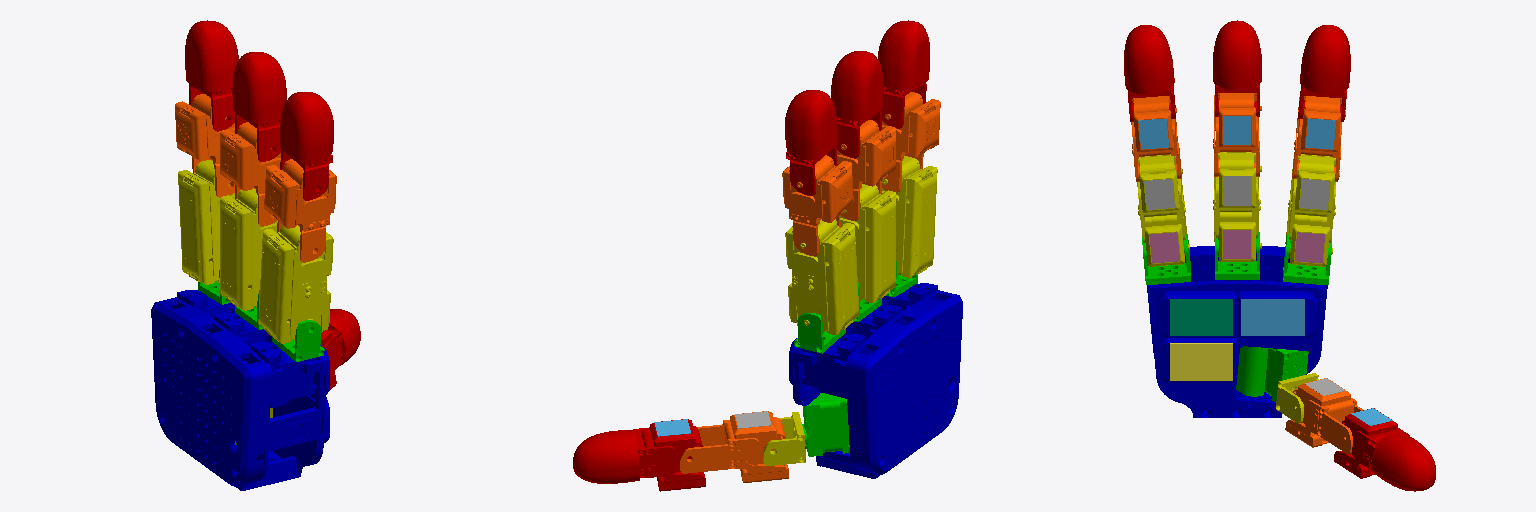
--- What the picture shows (computed from the rendered views, not written in the file) ---
3 views of the same robot in one strip: view 1: azimuth 30°, elevation 25°; view 2: azimuth 150°, elevation 25°; view 3: azimuth 270°, elevation 25° (orthographic).
Model xela_allegro_hand with 35 links and 34 joints (16 revolute, 18 fixed), rooted at allegro_base_link, posed all joints at 0 but 1 set to mid-range because 0 is outside their limits (allegro_joint_41 = 0.925).
Links seen in each view (by area): view 1: allegro_base_link, allegro_link_32, allegro_link_22, allegro_link_12, allegro_link_34, allegro_link_24, allegro_link_14, allegro_link_33, allegro_link_23, allegro_link_13, allegro_link_44, allegro_link_31; view 2: allegro_base_link, allegro_link_12, allegro_link_44, allegro_link_43, allegro_link_22, allegro_link_32, allegro_link_14, allegro_link_24, allegro_link_34, allegro_link_13, allegro_link_23, allegro_link_33 (+3 smaller); view 3: allegro_base_link, allegro_link_44, allegro_link_14, allegro_link_34, allegro_link_24, allegro_link_43, allegro_link_12, allegro_link_32, allegro_link_22, allegro_link_41, palm_sensor_3_link, palm_sensor_1_link (+17 smaller).
Link boxes in pixels (box(x1,y1,x2,y2)): allegro_base_link: box(151, 290, 329, 490); allegro_link_32: box(258, 225, 333, 343); allegro_link_22: box(220, 188, 277, 310); allegro_link_12: box(178, 160, 234, 284); allegro_link_34: box(280, 92, 333, 200); allegro_link_24: box(232, 52, 286, 161); allegro_link_14: box(185, 20, 238, 131); allegro_link_33: box(264, 159, 336, 262); allegro_link_23: box(220, 122, 280, 226); allegro_link_13: box(175, 94, 234, 197); allegro_link_44: box(321, 309, 360, 389); allegro_link_31: box(272, 320, 324, 361); allegro_base_link: box(789, 283, 962, 478); allegro_link_12: box(785, 219, 858, 334); allegro_link_44: box(573, 419, 705, 491); allegro_link_43: box(680, 411, 788, 482); allegro_link_22: box(840, 184, 895, 302); allegro_link_32: box(882, 156, 937, 277); allegro_link_14: box(785, 90, 837, 195); allegro_link_24: box(831, 51, 883, 158); allegro_link_34: box(878, 20, 929, 128); allegro_link_13: box(782, 155, 853, 256); allegro_link_23: box(837, 120, 895, 220); allegro_link_33: box(882, 92, 940, 192); allegro_base_link: box(1147, 246, 1327, 417); allegro_link_44: box(1334, 408, 1435, 491); allegro_link_14: box(1298, 25, 1350, 121); allegro_link_34: box(1124, 25, 1175, 121); allegro_link_24: box(1213, 20, 1261, 116); allegro_link_43: box(1285, 378, 1362, 453); allegro_link_12: box(1285, 154, 1339, 266); allegro_link_32: box(1137, 154, 1189, 266); allegro_link_22: box(1213, 152, 1261, 261); allegro_link_41: box(1236, 346, 1308, 402); palm_sensor_3_link: box(1170, 343, 1232, 380); palm_sensor_1_link: box(1241, 299, 1304, 335).
Bounding box of the posed robot: 0.1756 × 0.199 × 0.2769 m (x, y, z).
17 mesh visuals loaded from 9 distinct referenced files (9 OBJ).

robot.urdf — xela_allegro_hand:
<?xml version="1.0" ?>


<robot name="xela_allegro_hand">

  <!-- colors -->
  <material name="blue">
    <color rgba="0.0 0.0 0.8 1.0"/>
  </material>
  <material name="green">
    <color rgba="0.0 0.8 0.0 1.0"/>
  </material>
  <material name="yellow">
    <color rgba="0.8 0.8 0.0 1.0"/>
  </material>
  <material name="orange">
    <color rgba="1.0 0.4 0.04 1.0"/>
  </material>
  <material name="red">
    <color rgba="0.8 0 0 1.0"/>
  </material>


  <!--PALM-->

  <link name="allegro_base_link" >
    <visual>
     <origin rpy="0 3.14159265359 1.57079632679 " xyz="-0.0265 0 -0.0964"/>
     <geometry>
       <mesh filename="package://xela_models/mesh_simplified/palm.obj" scale="0.001 0.001 0.001"/>
     </geometry>
     <material name="blue"/>
    </visual>
    <inertial>
      <mass value="0.4288"/>
      <origin rpy="0 0 0" xyz="0 0 0"/>
      <inertia ixx="2.04e-03" ixy="8.58e-06" ixz="8.58e-06" iyy="1.23e-03" iyz="0.0" izz="1.25e-03"/>
    </inertial>

    <!-- Collision geometry - copy from visual -->
    <collision>
      <origin rpy="0 3.14159265359 1.57079632679 " xyz="-0.0265 0 -0.0964"/>
      <geometry>
        <mesh filename="package://xela_models/mesh_simplified/palm.obj" scale="0.001 0.001 0.001"/>
      </geometry>
    </collision>
  </link>

  <!-- palm sensor 1 (top-right) -->
  <link name="palm_sensor_1_link">
    <visual>
      <origin rpy="0 0 0 " xyz="0.0195 0.0228 -0.022"/>
      <geometry>
        <box size="0.001 0.0405 0.026"/>
      </geometry>
    </visual>
    <inertial>
      <mass value="0.01"/>
      <origin rpy="0 0 0" xyz="0 0 0"/>
      <inertia ixx="0.01" ixy="0" ixz="0" iyy="0.01" iyz="0" izz="0.01"/>
    </inertial>
    <collision>
      <origin rpy="0 0 0 " xyz="0.0195 0.0228 -0.022"/>
      <geometry>
        <box size="0.001 0.0405 0.026"/>
      </geometry>
    </collision>
  </link>
  <joint name="palm_sensor_1_joint" type="fixed">
    <parent link="allegro_base_link"/>
    <child link="palm_sensor_1_link"/>
    <origin xyz="0 0 0" rpy="0 0 0" />
  </joint>

  <!-- palm sensor 2 (top-left) -->
  <link name="palm_sensor_2_link">
    <visual>
      <origin rpy="0 0 0 " xyz="0.0195 -0.0228 -0.022"/>
      <geometry>
        <box size="0.001 0.0405 0.026"/>
      </geometry>
    </visual>
    <inertial>
      <mass value="0.01"/>
      <origin rpy="0 0 0" xyz="0 0 0"/>
      <inertia ixx="0.01" ixy="0" ixz="0" iyy="0.01" iyz="0" izz="0.01"/>
    </inertial>
    <collision>
      <origin rpy="0 0 0 " xyz="0.0195 -0.0228 -0.022"/>
      <geometry>
        <box size="0.001 0.0405 0.026"/>
      </geometry>
    </collision>
  </link>
  <joint name="palm_sensor_2_joint" type="fixed">
    <parent link="allegro_base_link"/>
    <child link="palm_sensor_2_link"/>
    <origin xyz="0 0 0" rpy="0 0 0" />
  </joint>

  <!-- palm sensor 3 (bottom-left) -->
  <link name="palm_sensor_3_link">
    <visual>
      <origin rpy="0 0 0 " xyz="0.0195 -0.0228 -0.053"/>
      <geometry>
        <box size="0.001 0.0405 0.026"/>
      </geometry>
    </visual>
    <inertial>
      <mass value="0.01"/>
      <origin rpy="0 0 0" xyz="0 0 0"/>
      <inertia ixx="0.01" ixy="0" ixz="0" iyy="0.01" iyz="0" izz="0.01"/>
    </inertial>
    <collision>
      <origin rpy="0 0 0 " xyz="0.0195 -0.0228 -0.053"/>
      <geometry>
        <box size="0.001 0.0405 0.026"/>
      </geometry>
    </collision>
  </link>
  <joint name="palm_sensor_3_joint" type="fixed">
    <parent link="allegro_base_link"/>
    <child link="palm_sensor_3_link"/>
    <origin xyz="0 0 0" rpy="0 0 0" />
  </joint>


  <!--INDEX FINGER-->

  <link name="allegro_link_11">
    <visual>
     <origin rpy="1.57079632679  0 -1.57079632679 " xyz="0 0 -0.0005"/>
     <geometry>
       <mesh filename="package://xela_models/mesh_simplified/finger_link_1.obj" scale="0.001 0.001 0.001"/>
     </geometry>
     <material name="green"/>
    </visual>
    <inertial>
     <mass value="0.050"/>
     <origin rpy="0 0 0" xyz="-0.000811 0.000477 0.008113"/>
     <inertia ixx="2414.056e-09" ixy="-0.383e-09" ixz="77.216e-09" iyy="1101.930e-09" iyz="-9.204e-09" izz="1979.858e-09"/>
    </inertial>

    <!-- Collision geometry - copy from visual -->
    <collision>
      <origin rpy="1.57079632679  0 -1.57079632679 " xyz="0 0 -0.0005"/>
      <geometry>
        <mesh filename="package://xela_models/mesh_simplified/finger_link_1.obj" scale="0.001 0.001 0.001"/>
      </geometry>
    </collision>
  </link>

  <joint name="allegro_joint_11" type="revolute">
    <axis xyz="0 0 1"/>
    <limit effort="15" lower="-0.47" upper="0.47" velocity="7"/>
    <parent link="allegro_base_link"/>
    <child link="allegro_link_11"/>
    <origin xyz="0 0.043773 -0.002249" rpy="-0.0872665 0 0" />
    <dynamics damping="3" friction="10"/>
  </joint>

  <link name="allegro_link_12">
    <visual>
     <origin rpy="0 1.57079632679  0" xyz="0 0 0"/>
     <geometry>
       <mesh filename="package://xela_models/mesh_simplified/finger_link_2.obj" scale="0.001 0.001 0.001"/>
     </geometry>
     <material name="yellow"/>
    </visual>

    <inertial>
      <mass value="0.180"/>
      <origin rpy="0 0 0" xyz="-0.00356 0.000033 0.027011"/>
     <inertia ixx="33463.517e-09" ixy="-137.897e-09" ixz="-57.882e-09" iyy="37612.493e-09" iyz="-46.694e-09" izz="13497.383e-09"/>
    </inertial>

    <!-- Collision geometry - copy from visual -->
    <collision>
      <origin rpy="0 1.57079632679  0" xyz="0 0 0"/>
      <geometry>
        <mesh filename="package://xela_models/mesh_simplified/finger_link_2.obj" scale="0.001 0.001 0.001"/>
      </geometry>
    </collision>
  </link>

 <joint name="allegro_joint_12" type="revolute">
    <axis xyz="0 1 0"/>
    <limit effort="15" lower="-0.196" upper="1.61" velocity="7"/>
    <parent link="allegro_link_11"/>
    <child link="allegro_link_12"/>
    <origin xyz="0 0 0.0192" rpy="0 0 0" />
    <dynamics damping="3" friction="5"/>
  </joint>

  <!-- index finger sensor 4 -->
  <link name="index_sensor_4_link">
    <visual>
      <origin rpy="0 0 0 " xyz="0.015 0.0 0.0082"/>
      <geometry>
        <box size="0.001 0.018 0.0205"/>
      </geometry>
    </visual>
    <inertial>
      <mass value="0.01"/>
      <origin rpy="0 0 0" xyz="0 0 0"/>
      <inertia ixx="0.01" ixy="0" ixz="0" iyy="0.01" iyz="0" izz="0.01"/>
    </inertial>
    <collision>
      <origin rpy="0 0 0 " xyz="0.015 0.0 0.0082"/>
      <geometry>
        <box size="0.001 0.018 0.0205"/>
      </geometry>
    </collision>
  </link>
  <joint name="index_sensor_4_joint" type="fixed">
    <parent link="allegro_link_12"/>
    <child link="index_sensor_4_link"/>
    <origin xyz="0 0 0" rpy="0 0 0" />
  </joint>

  <!-- index finger sensor 3 -->
  <link name="index_sensor_3_link">
    <visual>
      <origin rpy="0 0 0 " xyz="0.015 0.0 0.0458"/>
      <geometry>
        <box size="0.001 0.018 0.0205"/>
      </geometry>
    </visual>
    <inertial>
      <mass value="0.01"/>
      <origin rpy="0 0 0" xyz="0 0 0"/>
      <inertia ixx="0.01" ixy="0" ixz="0" iyy="0.01" iyz="0" izz="0.01"/>
    </inertial>
    <collision>
      <origin rpy="0 0 0 " xyz="0.015 0.0 0.0458"/>
      <geometry>
        <box size="0.001 0.018 0.0205"/>
      </geometry>
    </collision>
  </link>
  <joint name="index_sensor_3_joint" type="fixed">
    <parent link="allegro_link_12"/>
    <child link="index_sensor_3_link"/>
    <origin xyz="0 0 0" rpy="0 0 0" />
  </joint>

  <link name="allegro_link_13">
    <visual>
     <origin rpy="0 -1.57079632679  0" xyz="0 0 0.0425"/>
     <geometry>
       <mesh filename="package://xela_models/mesh_simplified/finger_link_3.obj" scale="0.001 0.001 0.001"/>
     </geometry>
     <material name="orange"/>
    </visual>

    <inertial>
      <mass value="0.080"/>
      <origin rpy="0 0 0" xyz="-0.002973 0.000065 0.029809"/>
      <inertia ixx="9811.638e-09" ixy="-23.174e-09" ixz="497.074e-09" iyy="11210.635e-09" iyz="-42.915e-09" izz="7480.75e-09"/>
    </inertial>

    <!-- Collision geometry - copy from visual -->
    <collision>
      <origin rpy="0 -1.57079632679  0" xyz="0 0 0.0425"/>
      <geometry>
        <mesh filename="package://xela_models/mesh_simplified/finger_link_3.obj" scale="0.001 0.001 0.001"/>
      </geometry>
    </collision>
  </link>

  <joint name="allegro_joint_13" type="revolute">
    <axis xyz="0 1 0"/>
    <limit effort="15" lower="-0.174" upper="1.709" velocity="7"/>
    <parent link="allegro_link_12"/>
    <child link="allegro_link_13"/>
    <origin xyz="0 0 0.054" rpy="0 0 0" />
    <dynamics damping="8" friction="10"/>
  </joint>

  <!-- index finger sensor 2 -->
  <link name="index_sensor_2_link">
    <visual>
      <origin rpy="0 0 0 " xyz="0.015 0.0 0.0344"/>
      <geometry>
        <box size="0.001 0.018 0.0205"/>
      </geometry>
    </visual>
    <inertial>
      <mass value="0.01"/>
      <origin rpy="0 0 0" xyz="0 0 0"/>
      <inertia ixx="0.01" ixy="0" ixz="0" iyy="0.01" iyz="0" izz="0.01"/>
    </inertial>
    <collision>
      <origin rpy="0 0 0 " xyz="0.015 0.0 0.0344"/>
      <geometry>
        <box size="0.001 0.018 0.0205"/>
      </geometry>
    </collision>
  </link>
  <joint name="index_sensor_2_joint" type="fixed">
    <parent link="allegro_link_13"/>
    <child link="index_sensor_2_link"/>
    <origin xyz="0 0 0" rpy="0 0 0" />
  </joint>

  <link name="allegro_link_14">
    <visual>
     <origin rpy="1.57079632679 0 -1.57079632679" xyz="0 0 0.0154"/>
     <geometry>
       <mesh filename="package://xela_models/mesh_simplified/finger_link_4.obj" scale="0.001 0.001 0.001"/>
     </geometry>
     <material name="red"/>
    </visual>

    <inertial>
     <mass value="0.080"/>
     <origin rpy="0 0 0" xyz="-0.000809 -0.00003 0.033361"/>
     <inertia ixx="7780.076e-09" ixy="-1.409e-09" ixz="170.689e-09" iyy="7260.287e-09" iyz="18.558e-09" izz="3969.241e-09"/>
    </inertial>

    <!-- Collision geometry - copy from visual -->
    <collision>
      <origin rpy="1.57079632679 0 -1.57079632679" xyz="0 0 0.0154"/>
      <geometry>
        <mesh filename="package://xela_models/mesh_simplified/finger_link_4.obj" scale="0.001 0.001 0.001"/>
      </geometry>
    </collision>
  </link>

  <joint name="allegro_joint_14" type="revolute">
    <axis xyz="0 1 0"/>
    <limit effort="15" lower="-0.227" upper="1.618" velocity="7"/>
    <parent link="allegro_link_13"/>
    <child link="allegro_link_14"/>
    <origin xyz="0 0 0.0424" rpy="0 0 0" />
    <dynamics damping="10" friction="12"/>
  </joint>

  <link name="allegro_link_14_tip">
  </link>

  <joint name="allegro_joint_14_tip" type="fixed">
    <parent link="allegro_link_14"/>
    <child link="allegro_link_14_tip"/>
    <origin xyz="-0.012601 0 0.020745" rpy="0 0 0" />
    <!--origin xyz="0.013341 0 0.043834" rpy="0 0 0" /-->
  </joint>


  <!--MIDDLE FINGER-->

  <link name="allegro_link_21" >
    <visual>
     <origin rpy="1.57079632679  0 -1.57079632679 " xyz="0 0 -0.0005"/>
     <geometry>
       <mesh filename="package://xela_models/mesh_simplified/finger_link_1.obj" scale="0.001 0.001 0.001"/>
     </geometry>
     <material name="green"/>
    </visual>

    <inertial>
     <mass value="0.050"/>
     <origin rpy="0 0 0" xyz="-0.000811 0.000477 0.008113"/>
     <inertia ixx="2414.056e-09" ixy="-0.383e-09" ixz="77.216e-09" iyy="1101.930e-09" iyz="-9.204e-09" izz="1979.858e-09"/>
    </inertial>

    <!-- Collision geometry - copy from visual -->
    <collision>
      <origin rpy="1.57079632679  0 -1.57079632679 " xyz="0 0 -0.0005"/>
      <geometry>
        <mesh filename="package://xela_models/mesh_simplified/finger_link_1.obj" scale="0.001 0.001 0.001"/>
      </geometry>
    </collision>
  </link>

  <joint name="allegro_joint_21" type="revolute">
    <axis xyz="0 0 1"/>
    <limit effort="15" lower="-0.47" upper="0.47" velocity="7"/>
    <parent link="allegro_base_link"/>
    <child link="allegro_link_21"/>
    <origin xyz="0 0 0" rpy="0 0 0" />
    <dynamics damping="3" friction="10"/>
  </joint>
 
  <link name="allegro_link_22" >

    <visual>
     <origin rpy="0 1.57079632679  0" xyz="0 0 0"/>
     <geometry>
       <mesh filename="package://xela_models/mesh_simplified/finger_link_2.obj" scale="0.001 0.001 0.001"/>
     </geometry>
     <material name="yellow"/>
    </visual>

    <inertial>
     <mass value="0.180"/>
     <origin rpy="0 0 0" xyz="-0.00356 0.000033 0.027011"/>
     <inertia ixx="33463.517e-09" ixy="-137.897e-09" ixz="-57.882e-09" iyy="37612.493e-09" iyz="-46.694e-09" izz="13497.383e-09"/>
    </inertial>

    <!-- Collision geometry - copy from visual -->
    <collision>
      <origin rpy="0 1.57079632679  0" xyz="0 0 0"/>
      <geometry>
        <mesh filename="package://xela_models/mesh_simplified/finger_link_2.obj" scale="0.001 0.001 0.001"/>
      </geometry>
    </collision>
  </link>

  <joint name="allegro_joint_22" type="revolute">
    <axis xyz="0 1 0"/>
    <limit effort="15" lower="-0.196" upper="1.61" velocity="7"/>
    <parent link="allegro_link_21"/>
    <child link="allegro_link_22"/>
    <origin xyz="0 0 0.0192" rpy="0 0 0" />
    <dynamics damping="3" friction="5"/>
  </joint>

  <!-- middle finger sensor 4 -->
  <link name="middle_sensor_4_link">
    <visual>
      <origin rpy="0 0 0 " xyz="0.015 0.0 0.0082"/>
      <geometry>
        <box size="0.001 0.018 0.0205"/>
      </geometry>
    </visual>
    <inertial>
      <mass value="0.01"/>
      <origin rpy="0 0 0" xyz="0 0 0"/>
      <inertia ixx="0.01" ixy="0" ixz="0" iyy="0.01" iyz="0" izz="0.01"/>
    </inertial>
    <collision>
      <origin rpy="0 0 0 " xyz="0.015 0.0 0.0082"/>
      <geometry>
        <box size="0.001 0.018 0.0205"/>
      </geometry>
    </collision>
  </link>
  <joint name="middle_sensor_4_joint" type="fixed">
    <parent link="allegro_link_22"/>
    <child link="middle_sensor_4_link"/>
    <origin xyz="0 0 0" rpy="0 0 0" />
  </joint>

  <!-- middle finger sensor 3 -->
  <link name="middle_sensor_3_link">
    <visual>
      <origin rpy="0 0 0 " xyz="0.015 0.0 0.0458"/>
      <geometry>
        <box size="0.001 0.018 0.0205"/>
      </geometry>
    </visual>
    <inertial>
      <mass value="0.01"/>
      <origin rpy="0 0 0" xyz="0 0 0"/>
      <inertia ixx="0.01" ixy="0" ixz="0" iyy="0.01" iyz="0" izz="0.01"/>
    </inertial>
    <collision>
      <origin rpy="0 0 0 " xyz="0.015 0.0 0.0458"/>
      <geometry>
        <box size="0.001 0.018 0.0205"/>
      </geometry>
    </collision>
  </link>
  <joint name="middle_sensor_3_joint" type="fixed">
    <parent link="allegro_link_22"/>
    <child link="middle_sensor_3_link"/>
    <origin xyz="0 0 0" rpy="0 0 0" />
  </joint>
  
  <link name="allegro_link_23" >
    <visual>
     <origin rpy="0 -1.57079632679  0" xyz="0 0 0.0425"/>
     <geometry>
       <mesh filename="package://xela_models/mesh_simplified/finger_link_3.obj" scale="0.001 0.001 0.001"/>
     </geometry>
     <material name="orange"/>
    </visual>

    <inertial>
     <mass value="0.080"/>
     <origin rpy="0 0 0" xyz="-0.002973 0.000065 0.029809"/>
     <inertia ixx="9811.638e-09" ixy="-23.174e-09" ixz="497.074e-09" iyy="11210.635e-09" iyz="-42.915e-09" izz="7480.75e-09"/>
    </inertial>

    <!-- Collision geometry - copy from visual -->
    <collision>
      <origin rpy="0 -1.57079632679  0" xyz="0 0 0.0425"/>
      <geometry>
        <mesh filename="package://xela_models/mesh_simplified/finger_link_3.obj" scale="0.001 0.001 0.001"/>
      </geometry>
    </collision>
  </link>

  <joint name="allegro_joint_23" type="revolute">
    <axis xyz="0 1 0"/>
    <limit effort="15" lower="-0.174" upper="1.709" velocity="7"/>
    <parent link="allegro_link_22"/>
    <child link="allegro_link_23"/>
    <origin xyz="0 0 0.054" rpy="0 0 0" />
    <dynamics damping="8" friction="10"/>
  </joint>

  <!-- middle finger sensor 2 -->
  <link name="middle_sensor_2_link">
    <visual>
      <origin rpy="0 0 0 " xyz="0.015 0.0 0.0344"/>
      <geometry>
        <box size="0.001 0.018 0.0205"/>
      </geometry>
    </visual>
    <inertial>
      <mass value="0.01"/>
      <origin rpy="0 0 0" xyz="0 0 0"/>
      <inertia ixx="0.01" ixy="0" ixz="0" iyy="0.01" iyz="0" izz="0.01"/>
    </inertial>
    <collision>
      <origin rpy="0 0 0 " xyz="0.015 0.0 0.0344"/>
      <geometry>
        <box size="0.001 0.018 0.0205"/>
      </geometry>
    </collision>
  </link>
  <joint name="middle_sensor_2_joint" type="fixed">
    <parent link="allegro_link_23"/>
    <child link="middle_sensor_2_link"/>
    <origin xyz="0 0 0" rpy="0 0 0" />
  </joint>
  
  <link name="allegro_link_24" >

    <visual>
     <origin rpy="1.57079632679 0 -1.57079632679" xyz="0 0 0.0154"/>
     <geometry>
       <mesh filename="package://xela_models/mesh_simplified/finger_link_4.obj" scale="0.001 0.001 0.001"/>
     </geometry>
     <material name="red"/>
    </visual>

    <inertial>
     <mass value="0.080"/>
     <origin rpy="0 0 0" xyz="-0.000809 -0.00003 0.033361"/>
     <inertia ixx="7780.076e-09" ixy="-1.409e-09" ixz="170.689e-09" iyy="7260.287e-09" iyz="18.558e-09" izz="3969.241e-09"/>
    </inertial>

    <!-- Collision geometry - copy from visual -->
    <collision>
      <origin rpy="1.57079632679 0 -1.57079632679" xyz="0 0 0.0154"/>
      <geometry>
        <mesh filename="package://xela_models/mesh_simplified/finger_link_4.obj" scale="0.001 0.001 0.001"/>
      </geometry>
    </collision>

  </link>

  <joint name="allegro_joint_24" type="revolute">
    <axis xyz="0 1 0"/>
    <limit effort="15" lower="-0.227" upper="1.618" velocity="7"/>
    <parent link="allegro_link_23"/>
    <child link="allegro_link_24"/>
    <origin xyz="0 0 0.0424" rpy="0 0 0" />
    <dynamics damping="10" friction="12"/>
  </joint>

  <link name="allegro_link_24_tip">
  </link>

  <joint name="allegro_joint_24_tip" type="fixed">
    <parent link="allegro_link_24"/>
    <child link="allegro_link_24_tip"/>
    <origin xyz="-0.012601 0 0.020745" rpy="0 0 0" />
    <!--origin xyz="0.013341 0 0.043834" rpy="0 0 0" /-->
  </joint>


    <!--RING FINGER-->
  <link name="allegro_link_31" >

    <visual>
     <origin rpy="1.57079632679  0 -1.57079632679 " xyz="0 0 -0.0005"/>
     <geometry>
       <mesh filename="package://xela_models/mesh_simplified/finger_link_1.obj" scale="0.001 0.001 0.001"/>
     </geometry>
     <material name="green"/>
    </visual>

    <inertial>
     <mass value="0.050"/>
     <origin rpy="0 0 0" xyz="-0.000811 0.000477 0.008113"/>
     <inertia ixx="2414.056e-09" ixy="-0.383e-09" ixz="77.216e-09" iyy="1101.930e-09" iyz="-9.204e-09" izz="1979.858e-09"/>
    </inertial>

    <!-- Collision geometry - copy from visual -->
    <collision>
      <origin rpy="1.57079632679  0 -1.57079632679 " xyz="0 0 -0.0005"/>
      <geometry>
        <mesh filename="package://xela_models/mesh_simplified/finger_link_1.obj" scale="0.001 0.001 0.001"/>
      </geometry>
    </collision>

  </link>

  <joint name="allegro_joint_31" type="revolute">
    <axis xyz="0 0 1"/>
    <limit effort="15" lower="-0.47" upper="0.47" velocity="7"/>
    <parent link="allegro_base_link"/>
    <child link="allegro_link_31"/>
    <origin xyz="0 -0.043773 -0.002249" rpy="0.0872665 0 0" />
    <dynamics damping="3" friction="10"/>
  </joint>
  
  <link name="allegro_link_32" >

    <visual>
     <origin rpy="0 1.57079632679  0" xyz="0 0 0"/>
     <geometry>
       <mesh filename="package://xela_models/mesh_simplified/finger_link_2.obj" scale="0.001 0.001 0.001"/>
     </geometry>
     <material name="yellow"/>
    </visual>

    <inertial>
     <mass value="0.180"/>
     <origin rpy="0 0 0" xyz="-0.00356 0.000033 0.027011"/>
     <inertia ixx="33463.517e-09" ixy="-137.897e-09" ixz="-57.882e-09" iyy="37612.493e-09" iyz="-46.694e-09" izz="13497.383e-09"/>
    </inertial>

    <!-- Collision geometry - copy from visual -->
    <collision>
      <origin rpy="0 1.57079632679  0" xyz="0 0 0"/>
      <geometry>
        <mesh filename="package://xela_models/mesh_simplified/finger_link_2.obj" scale="0.001 0.001 0.001"/>
      </geometry>
    </collision>
  </link>

  <joint name="allegro_joint_32" type="revolute">
    <axis xyz="0 1 0"/>
    <limit effort="15" lower="-0.196" upper="1.61" velocity="7"/>
    <parent link="allegro_link_31"/>
    <child link="allegro_link_32"/>
    <origin xyz="0 0 0.0192" rpy="0 0 0" />
    <dynamics damping="3" friction="5"/>
  </joint>

  <!-- ring finger sensor 4 -->
  <link name="ring_sensor_4_link">
    <visual>
      <origin rpy="0 0 0 " xyz="0.015 0.0 0.0082"/>
      <geometry>
        <box size="0.001 0.018 0.0205"/>
      </geometry>
    </visual>
    <inertial>
      <mass value="0.01"/>
      <origin rpy="0 0 0" xyz="0 0 0"/>
      <inertia ixx="0.01" ixy="0" ixz="0" iyy="0.01" iyz="0" izz="0.01"/>
    </inertial>
    <collision>
      <origin rpy="0 0 0 " xyz="0.015 0.0 0.0082"/>
      <geometry>
        <box size="0.001 0.018 0.0205"/>
      </geometry>
    </collision>
  </link>
  <joint name="ring_sensor_4_joint" type="fixed">
    <parent link="allegro_link_32"/>
    <child link="ring_sensor_4_link"/>
    <origin xyz="0 0 0" rpy="0 0 0" />
  </joint>

  <!-- ring finger sensor 3 -->
  <link name="ring_sensor_3_link">
    <visual>
      <origin rpy="0 0 0 " xyz="0.015 0.0 0.0458"/>
      <geometry>
        <box size="0.001 0.018 0.0205"/>
      </geometry>
    </visual>
    <inertial>
      <mass value="0.01"/>
      <origin rpy="0 0 0" xyz="0 0 0"/>
      <inertia ixx="0.01" ixy="0" ixz="0" iyy="0.01" iyz="0" izz="0.01"/>
    </inertial>
    <collision>
      <origin rpy="0 0 0 " xyz="0.015 0.0 0.0458"/>
      <geometry>
        <box size="0.001 0.018 0.0205"/>
      </geometry>
    </collision>
  </link>
  <joint name="ring_sensor_3_joint" type="fixed">
    <parent link="allegro_link_32"/>
    <child link="ring_sensor_3_link"/>
    <origin xyz="0 0 0" rpy="0 0 0" />
  </joint>
 
  <link name="allegro_link_33">

    <visual>
     <origin rpy="0 -1.57079632679  0" xyz="0 0 0.0425"/>
     <geometry>
       <mesh filename="package://xela_models/mesh_simplified/finger_link_3.obj" scale="0.001 0.001 0.001"/>
     </geometry>
     <material name="orange"/>
    </visual>

    <inertial>
     <mass value="0.080"/>
     <origin rpy="0 0 0" xyz="-0.002973 0.000065 0.029809"/>
     <inertia ixx="9811.638e-09" ixy="-23.174e-09" ixz="497.074e-09" iyy="11210.635e-09" iyz="-42.915e-09" izz="7480.75e-09"/>
    </inertial>

    <!-- Collision geometry - copy from visual -->
    <collision>
      <origin rpy="0 -1.57079632679  0" xyz="0 0 0.0425"/>
      <geometry>
        <mesh filename="package://xela_models/mesh_simplified/finger_link_3.obj" scale="0.001 0.001 0.001"/>
      </geometry>
    </collision>

  </link>

 <joint name="allegro_joint_33" type="revolute">
    <axis xyz="0 1 0"/>
    <limit effort="15" lower="-0.174" upper="1.709" velocity="7"/>
    <parent link="allegro_link_32"/>
    <child link="allegro_link_33"/>
    <origin xyz="0 0 0.054" rpy="0 0 0" />
    <dynamics damping="8" friction="10"/>
  </joint>

  <!-- ring finger sensor 2 -->
  <link name="ring_sensor_2_link">
    <visual>
      <origin rpy="0 0 0 " xyz="0.015 0.0 0.0344"/>
      <geometry>
        <box size="0.001 0.018 0.0205"/>
      </geometry>
    </visual>
    <inertial>
      <mass value="0.01"/>
      <origin rpy="0 0 0" xyz="0 0 0"/>
      <inertia ixx="0.01" ixy="0" ixz="0" iyy="0.01" iyz="0" izz="0.01"/>
    </inertial>
    <collision>
      <origin rpy="0 0 0 " xyz="0.015 0.0 0.0344"/>
      <geometry>
        <box size="0.001 0.018 0.0205"/>
      </geometry>
    </collision>
  </link>
  <joint name="ring_sensor_2_joint" type="fixed">
    <parent link="allegro_link_33"/>
    <child link="ring_sensor_2_link"/>
    <origin xyz="0 0 0" rpy="0 0 0" />
  </joint>
  
  <link name="allegro_link_34" >

    <visual>
     <origin rpy="1.57079632679 0 -1.57079632679" xyz="0 0 0.0154"/>
     <geometry>
       <mesh filename="package://xela_models/mesh_simplified/finger_link_4.obj" scale="0.001 0.001 0.001"/>
     </geometry>
    <material name="red"/>
    </visual>

    <inertial>
     <mass value="0.080"/>
     <origin rpy="0 0 0" xyz="-0.000809 -0.00003 0.033361"/>
     <inertia ixx="7780.076e-09" ixy="-1.409e-09" ixz="170.689e-09" iyy="7260.287e-09" iyz="18.558e-09" izz="3969.241e-09"/>
    </inertial>

    <!-- Collision geometry - copy from visual -->
    <collision>
      <origin rpy="1.57079632679 0 -1.57079632679" xyz="0 0 0.0154"/>
      <geometry>
        <mesh filename="package://xela_models/mesh_simplified/finger_link_4.obj" scale="0.001 0.001 0.001"/>
      </geometry>
    </collision>

  </link>

  <joint name="allegro_joint_34" type="revolute">
    <axis xyz="0 1 0"/>
    <limit effort="15" lower="-0.227" upper="1.618" velocity="7"/>
    <parent link="allegro_link_33"/>
    <child link="allegro_link_34"/>
    <origin xyz="0 0 0.0424" rpy="0 0 0" />
    <dynamics damping="10" friction="12"/>
  </joint>

  <link name="allegro_link_34_tip">
  </link>

  <joint name="allegro_joint_34_tip" type="fixed">
    <parent link="allegro_link_34"/>
    <child link="allegro_link_34_tip"/>
    <origin xyz="-0.012601 0 0.020745" rpy="0 0 0" />
    <!--origin xyz="0.013341 0 0.043834" rpy="0 0 0" /-->
  </joint>


   <!--THUMB-->
  <link name="allegro_link_41" >

    <visual>
     <origin rpy="3.14159265359 0 -1.57079632679" xyz="0.0446 0 0"/>
     <geometry>
       <mesh filename="package://xela_models/mesh_simplified/thumb_link_1.obj" scale="0.001 0.001 0.001"/>
     </geometry>
     <material name="green"/>
    </visual>

    <inertial>
     <mass value="0.0680"/>
     <origin rpy="0 0 0" xyz="0.009297 0.008825 0.015128"/>
     <inertia ixx="14941.462e-09" ixy="674.976e-09" ixz="-305.859e-09" iyy="18499.069e-09" iyz="1170.808e-09" izz="14309.75e-09"/>
    </inertial>

    <!-- Collision geometry - copy from visual -->
    <collision>
      <origin rpy="3.14159265359 0 -1.57079632679" xyz="0.0446 0 0"/>
      <geometry>
        <mesh filename="package://xela_models/mesh_simplified/thumb_link_1.obj" scale="0.001 0.001 0.001"/>
      </geometry>
    </collision>

  </link>

  <joint name="allegro_joint_41" type="revolute">
    <axis xyz="-1 0 0"/>
    <limit effort="15" lower="0.25" upper="1.6" velocity="7"/>
    <parent link="allegro_base_link"/>
    <child link="allegro_link_41"/>
    <origin xyz="-0.0182 0.016958 -0.073288" rpy="-3.14159 -1.48353 1.5708" />
    <dynamics damping="3" friction="10"/>
  </joint>

  <link name="allegro_link_42" >
    <visual>
     <origin rpy="1.57079632679 0 -1.57079632679" xyz="0 0 -0.0005"/>
     <geometry>
       <mesh filename="package://xela_models/mesh_simplified/thumb_link_2.obj" scale="0.001 0.001 0.001"/>
     </geometry>
     <material name="yellow"/>
    </visual>

    <inertial>
     <mass value="0.015"/>
     <origin rpy="0 0 0" xyz="-0.000477 0.008113 0.000811"/>
     <inertia ixx="1101.930e-09" ixy="0.383e-09" ixz="9.204e-09" iyy="2414.056e-09" iyz="77.216e-09" izz="1979.858e-09"/>
    </inertial>

    <!-- Collision geometry - copy from visual -->
    <collision>
      <origin rpy="1.57079632679 0 -1.57079632679" xyz="0 0 -0.0005"/>
      <geometry>
        <mesh filename="package://xela_models/mesh_simplified/thumb_link_2.obj" scale="0.001 0.001 0.001"/>
      </geometry>
    </collision>

  </link> 

  <joint name="allegro_joint_42" type="revolute">
    <axis xyz="0 0 1"/>
    <limit effort="15" lower="-0.105" upper="1.163" velocity="7"/>
    <parent link="allegro_link_41"/>
    <child link="allegro_link_42"/>
    <origin xyz="0 0.005 0.0402" rpy="0 0 0" />
    <dynamics damping="3" friction="5"/>
  </joint>
  
  <link name="allegro_link_43" >
  <visual>
     <origin rpy="-1.57079632679 1.57079632679 -1.57079632679" xyz="0 0 0"/>
     <geometry>
       <mesh filename="package://xela_models/mesh_simplified/thumb_link_3.obj" scale="0.001 0.001 0.001"/>
     </geometry>
     <material name="orange"/>
    </visual>

    <inertial>
     <mass value="0.095"/>
     <origin rpy="0 0 0" xyz="-0.003196 0.000188 0.013453"/>
     <inertia ixx="12096.373e-09" ixy="-17.650e-09" ixz="-979.939e-09" iyy="13369.697e-09" iyz="-80.073e-09" izz="7544.397e-09"/>
    </inertial>

    <!-- Collision geometry - copy from visual -->
    <collision>
      <origin rpy="-1.57079632679 1.57079632679 -1.57079632679" xyz="0 0 0"/>
      <geometry>
        <mesh filename="package://xela_models/mesh_simplified/thumb_link_3.obj" scale="0.001 0.001 0.001"/>
      </geometry>
    </collision>
  </link> 

  <joint name="allegro_joint_43" type="revolute">
    <axis xyz="0 1 0"/>
    <limit effort="15" lower="-0.189" upper="1.644" velocity="7"/>
    <parent link="allegro_link_42"/>
    <child link="allegro_link_43"/>
    <origin xyz="0 0 0.0192" rpy="0 0 0" />
    <dynamics damping="3" friction="10"/>
  </joint>

  <!-- thumb finger sensor 3 -->
  <link name="thumb_sensor_3_link">
    <visual>
      <origin rpy="0 0 0 " xyz="0.015 0.0 0.01"/>
      <geometry>
        <box size="0.001 0.018 0.0205"/>
      </geometry>
    </visual>
    <inertial>
      <mass value="0.01"/>
      <origin rpy="0 0 0" xyz="0 0 0"/>
      <inertia ixx="0.01" ixy="0" ixz="0" iyy="0.01" iyz="0" izz="0.01"/>
    </inertial>
    <collision>
      <origin rpy="0 0 0 " xyz="0.015 0.0 0.01"/>
      <geometry>
        <box size="0.001 0.018 0.0205"/>
      </geometry>
    </collision>
  </link>
  <joint name="thumb_sensor_3_joint" type="fixed">
    <parent link="allegro_link_43"/>
    <child link="thumb_sensor_3_link"/>
    <origin xyz="0 0 0" rpy="0 0 0" />
  </joint>
  
  <link name="allegro_link_44" >

  <visual>
     <origin rpy="-1.57079632679 1.57079632679 -1.57079632679" xyz="0 0 0"/>
     <geometry>
       <mesh filename="package://xela_models/mesh_simplified/thumb_link_4.obj" scale="0.001 0.001 0.001"/>
     </geometry>
     <material name="red"/>
    </visual>

    <inertial>
     <mass value="0.110"/>
     <origin rpy="0 0 0" xyz="0.00005 -0.001611 0.035166"/>
     <inertia ixx="33947.965e-09" ixy="-0.538e-09" ixz="-142.573e-09" iyy="33136.228e-09" iyz="-1585.247e-09" izz="8796.735e-09"/>
    </inertial>

    <!-- Collision geometry - copy from visual -->
    <collision>
      <origin rpy="-1.57079632679 1.57079632679 -1.57079632679" xyz="0 0 0"/>
      <geometry>
        <mesh filename="package://xela_models/mesh_simplified/thumb_link_4.obj" scale="0.001 0.001 0.001"/>
      </geometry>
    </collision>
  </link> 
  
  <joint name="allegro_joint_44" type="revolute">
    <axis xyz="0 1 0"/>
    <limit effort="15" lower="-0.162" upper="1.719" velocity="7"/>
    <parent link="allegro_link_43"/>
    <child link="allegro_link_44"/>
    <origin xyz="0 0 0.0514" rpy="0 0 0" />
    <dynamics damping="3" friction="12"/>
  </joint>

  <!-- thumb finger sensor 2 -->
  <link name="thumb_sensor_2_link">
    <visual>
      <origin rpy="0 0 0 " xyz="0.015 0.0 0.0082"/>
      <geometry>
        <box size="0.001 0.018 0.0205"/>
      </geometry>
    </visual>
    <inertial>
      <mass value="0.01"/>
      <origin rpy="0 0 0" xyz="0 0 0"/>
      <inertia ixx="0.01" ixy="0" ixz="0" iyy="0.01" iyz="0" izz="0.01"/>
    </inertial>
    <collision>
      <origin rpy="0 0 0 " xyz="0.015 0.0 0.0082"/>
      <geometry>
        <box size="0.001 0.018 0.0205"/>
      </geometry>
    </collision>
  </link>
  <joint name="thumb_sensor_2_joint" type="fixed">
    <parent link="allegro_link_44"/>
    <child link="thumb_sensor_2_link"/>
    <origin xyz="0 0 0" rpy="0 0 0" />
  </joint>
  
  <link name="allegro_link_44_tip">
  </link>
  <joint name="allegro_joint_44_tip" type="fixed">
    <parent link="allegro_link_44"/>
    <child link="allegro_link_44_tip"/>
    <origin xyz="-0.01392 -0.0001 0.0313" rpy="0 0 0" />
    <!--origin xyz="0.013474 0 0.055469" rpy="0 0 0" /-->
  </joint>
</robot>
 
